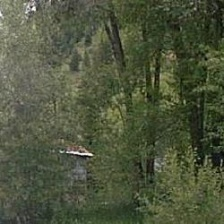neutral: (5, 4, 220, 221)
